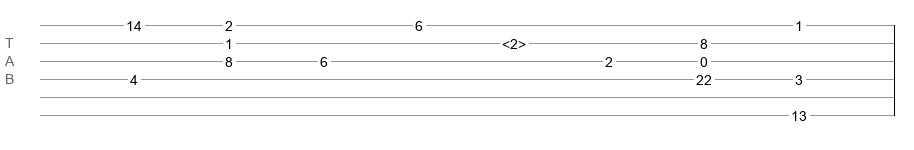0: (700, 54, 708, 64)
1: (225, 36, 233, 46), (795, 18, 803, 28)
13: (791, 108, 807, 118)
14: (126, 18, 142, 28)
2: (225, 18, 233, 28), (605, 54, 613, 64)
22: (696, 72, 712, 82)
3: (795, 72, 803, 82)
4: (130, 72, 138, 82)
6: (320, 54, 328, 64), (415, 18, 423, 28)
8: (225, 54, 233, 64), (700, 36, 708, 46)
harmonic: (502, 36, 526, 46)
